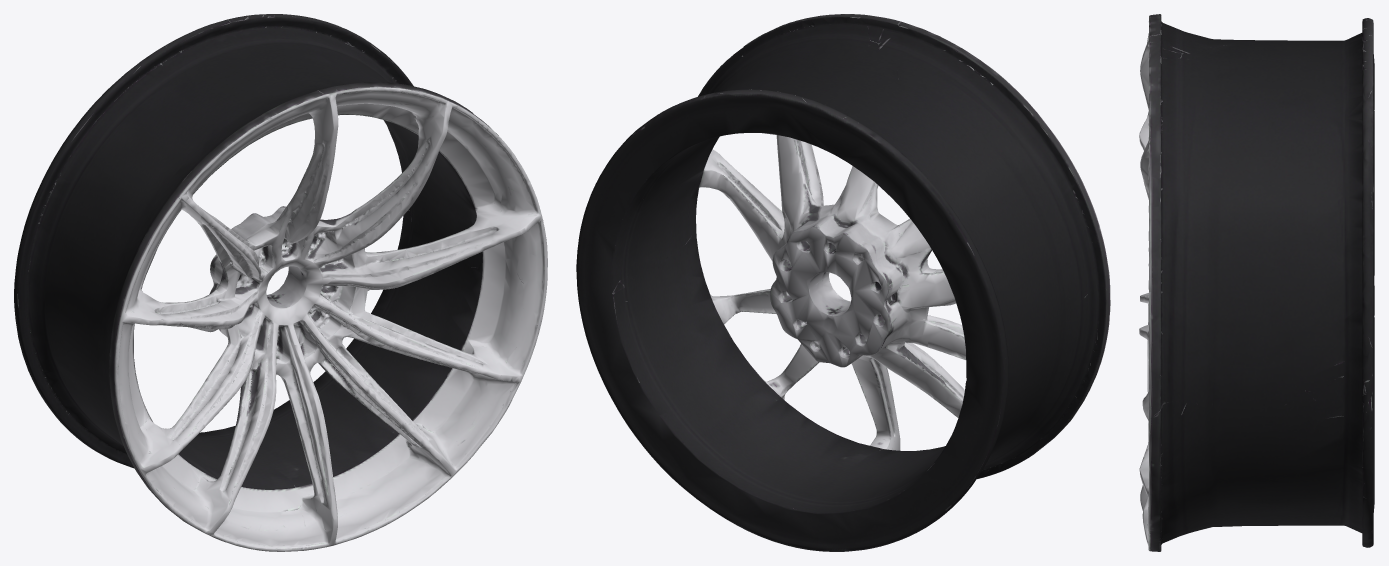
Rendered from 7471c241-9b08-4f0d-8d02-556d1eabe891.glb.
The picture shows the model from 3 angles, left to right: view 1: azimuth 30°, elevation 25°; view 2: azimuth 150°, elevation 25°; view 3: azimuth 270°, elevation 25°; orthographic projection. The views are drawn at different scales.
Parts seen in each view (by area): view 1: Mesh_0; view 2: Mesh_0; view 3: Mesh_0.
Part boxes in pixels (x1,y1,x2,y2): Mesh_0: [14, 14, 547, 551]; Mesh_0: [576, 14, 1110, 551]; Mesh_0: [1139, 14, 1374, 551].
Size of the model in its own units: 1.91 by 1.91 by 0.834.
1 material, 1 textured.
